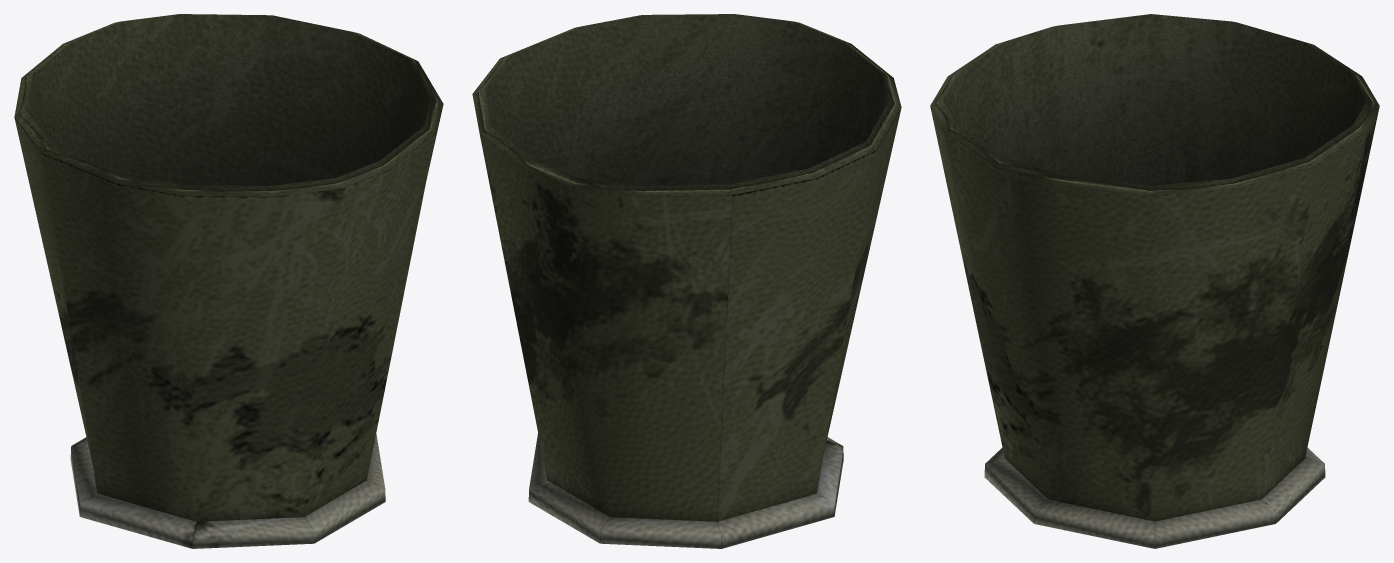
The model's file is TrashBin.fbx.
The picture shows the model from 3 angles, left to right: view 1: azimuth 30°, elevation 25°; view 2: azimuth 150°, elevation 25°; view 3: azimuth 270°, elevation 25°; orthographic projection.
Parts seen in each view (by area): view 1: polySurface570; view 2: polySurface570; view 3: polySurface570.
Boxes of the visible parts, left/top/right/bottom form: polySurface570: left=14, top=14, right=443, bottom=548; polySurface570: left=472, top=14, right=901, bottom=548; polySurface570: left=930, top=14, right=1379, bottom=548.
Bounding box in the file's own units: 3.49 × 3.38 × 3.65.
